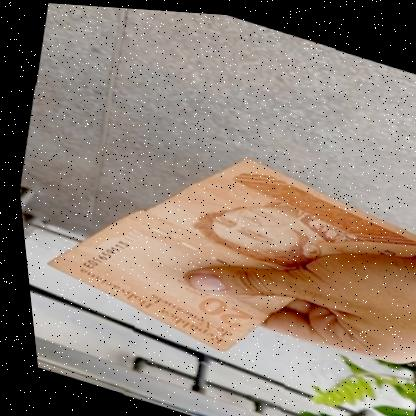twenty-front-vef: (18, 101, 416, 409)
